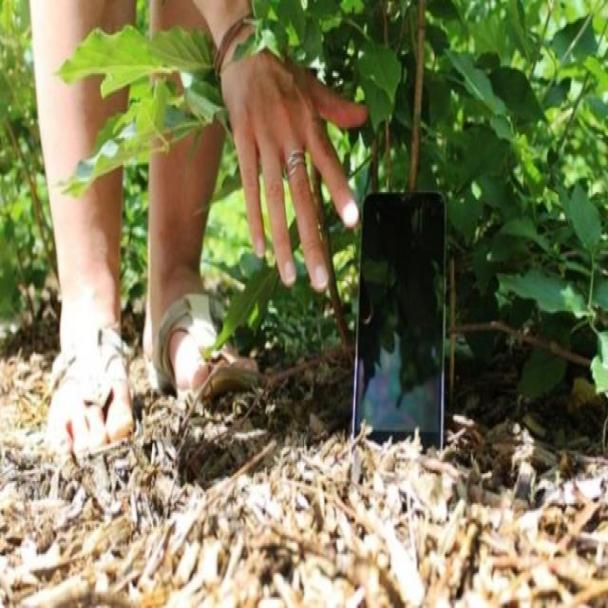Handphone: (351, 176, 451, 486)
